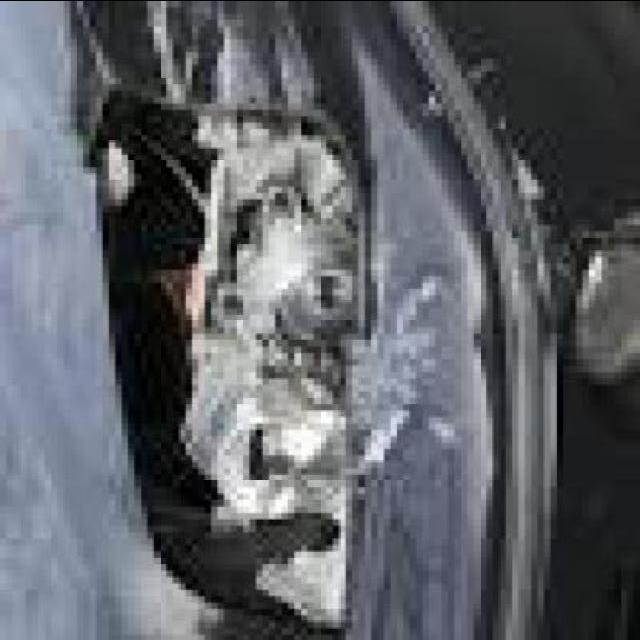Headlight-Damage: (88, 55, 402, 638)
